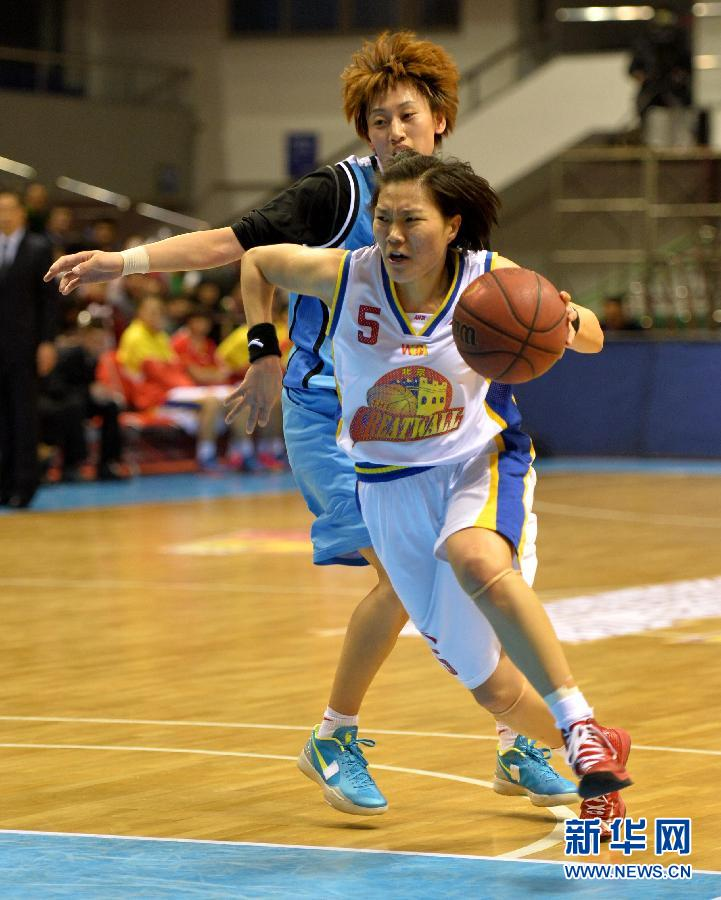ball: (450, 267, 571, 385)
